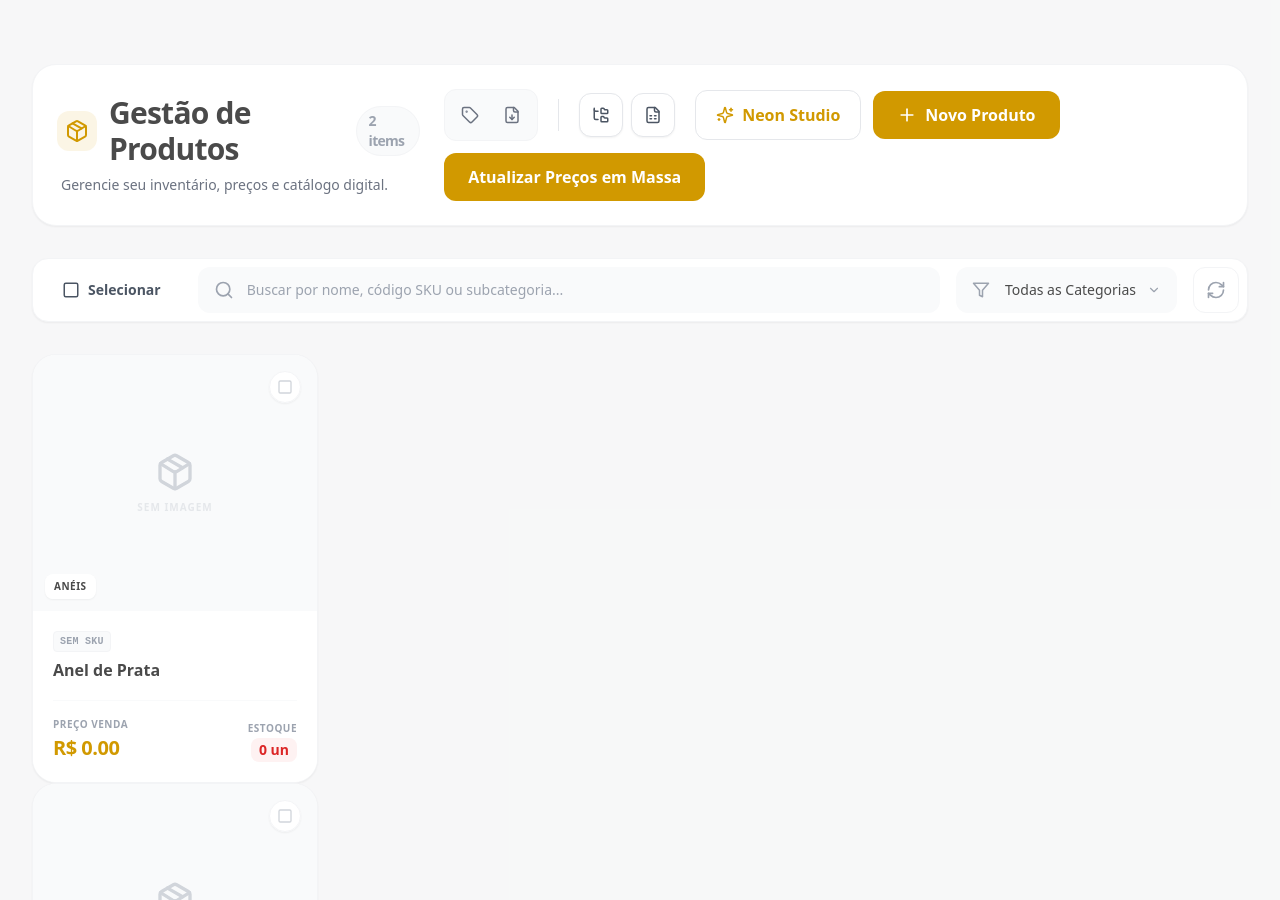
Test: ProdutosPage › deve realizar busca textual nos produtos renderizados
The width and height of the screenshot is (1280, 900).
Expected: the heading "Gestão de Produtos 2 items" is shown, [57,95,420,167]
Expected: the heading "Anel de Prata" is shown, [53,659,160,681]
Type "Brinco" into the field with placeholder "Buscar por nome, código SKU ou subcategoria..." at (569, 290), box [198,267,940,313]
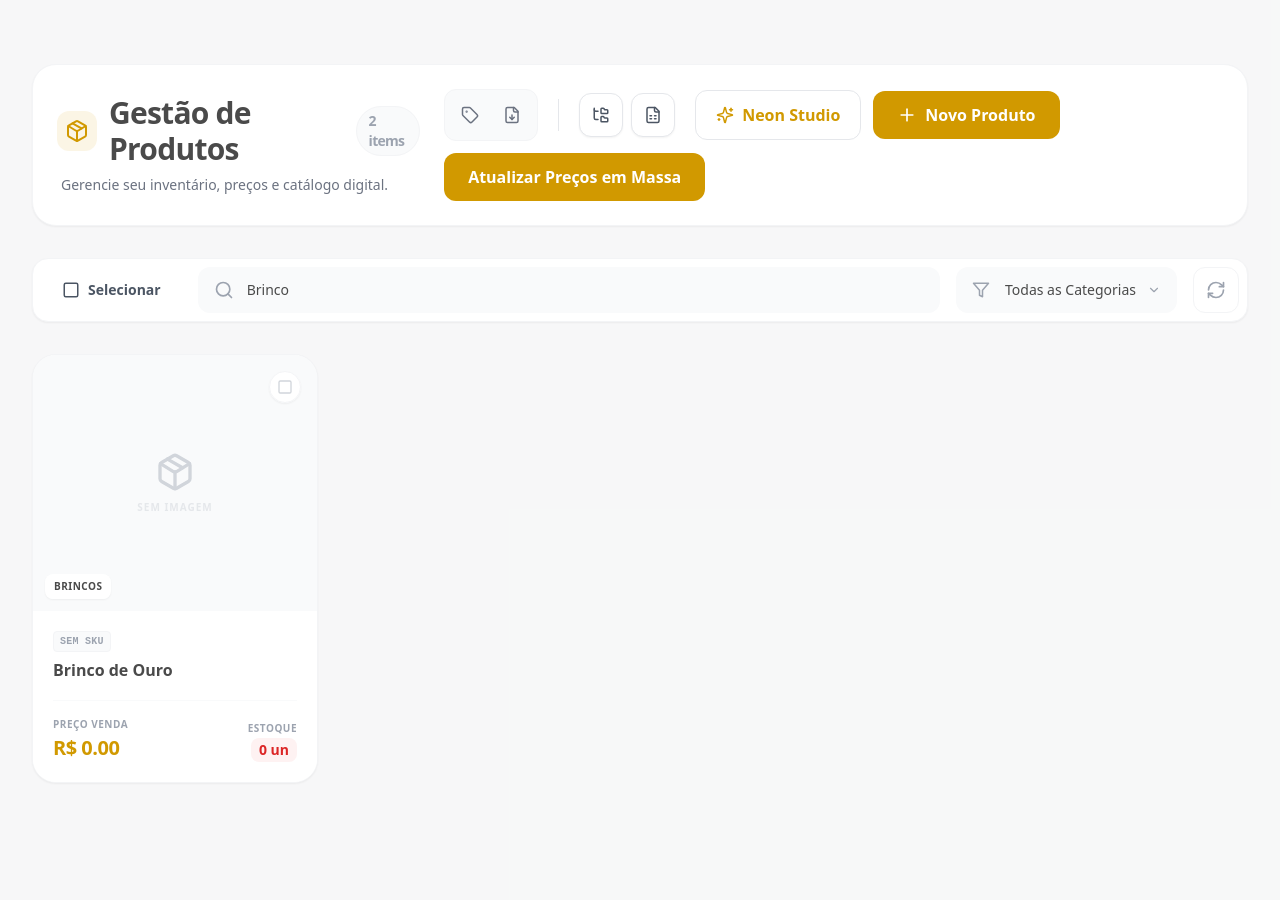
Expected: the heading "Brinco de Ouro" is shown, [53,659,172,681]
Expected: the heading "Anel de Prata" is gone
